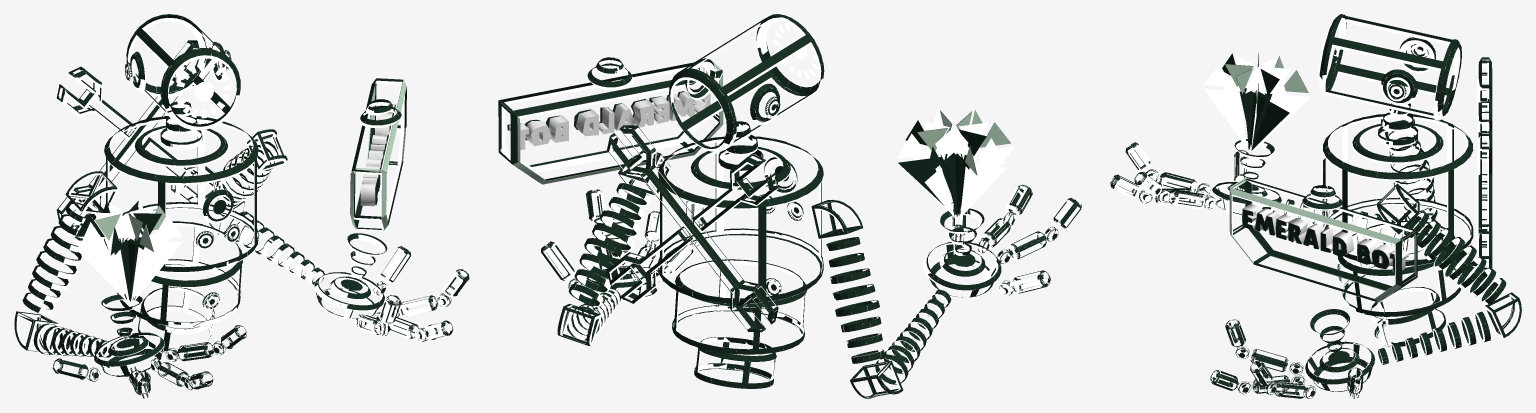
File: emerald.glb
The picture shows the model from 3 angles, left to right: view 1: azimuth 30°, elevation 25°; view 2: azimuth 150°, elevation 25°; view 3: azimuth 270°, elevation 25°; orthographic projection. The views are drawn at different scales.
Parts seen in each view (by area): view 1: emeraldbot; view 2: emeraldbot; view 3: emeraldbot.
Boxes of the visible parts, x1,y1,x2,y2 form: emeraldbot: (14, 14, 469, 398); emeraldbot: (498, 14, 1081, 398); emeraldbot: (1110, 14, 1521, 398).
Bounding box in the file's own units: 1.11 × 0.7906 × 0.9407.
